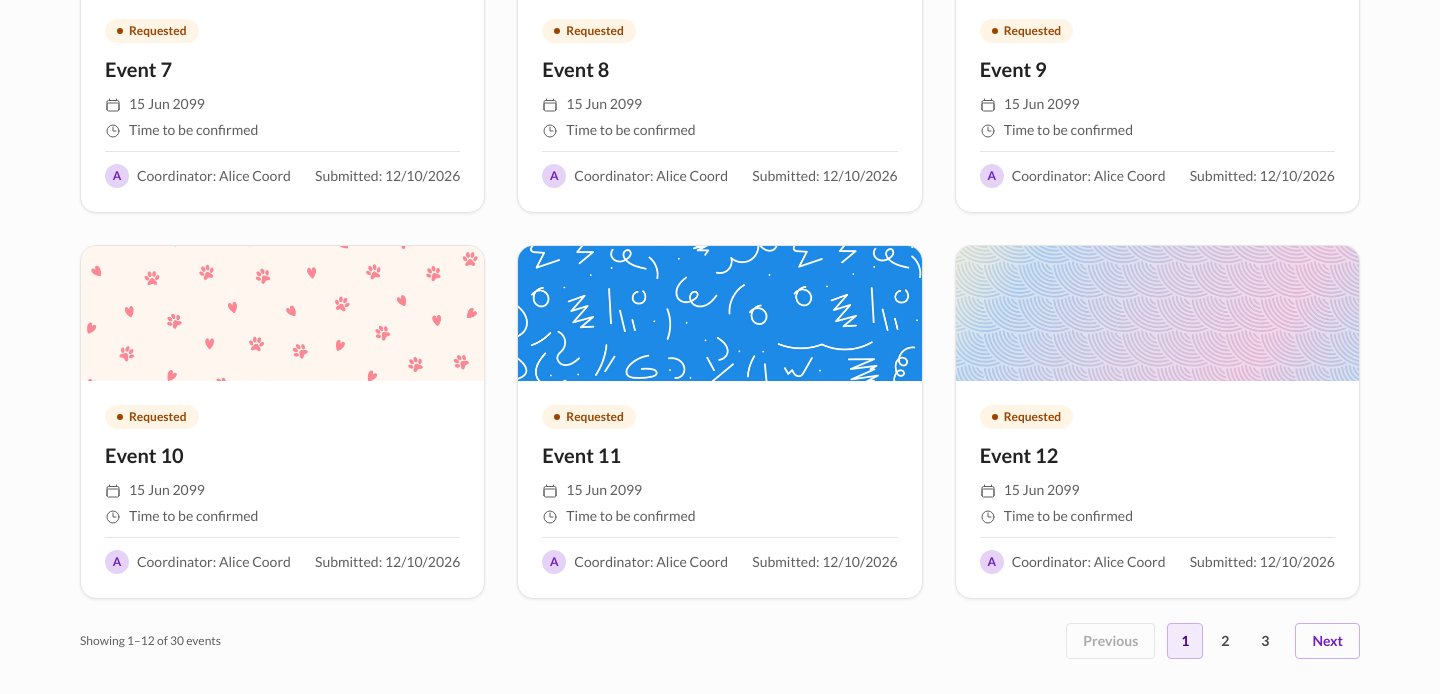
it: EventsListView — pagination › returns to page 1 when the tab changes, and pages the Drafts tab by its own count
(page scrolled)
Click the button "3". click: (1265, 641)
box: [1247, 623, 1283, 659]
(page scrolled)
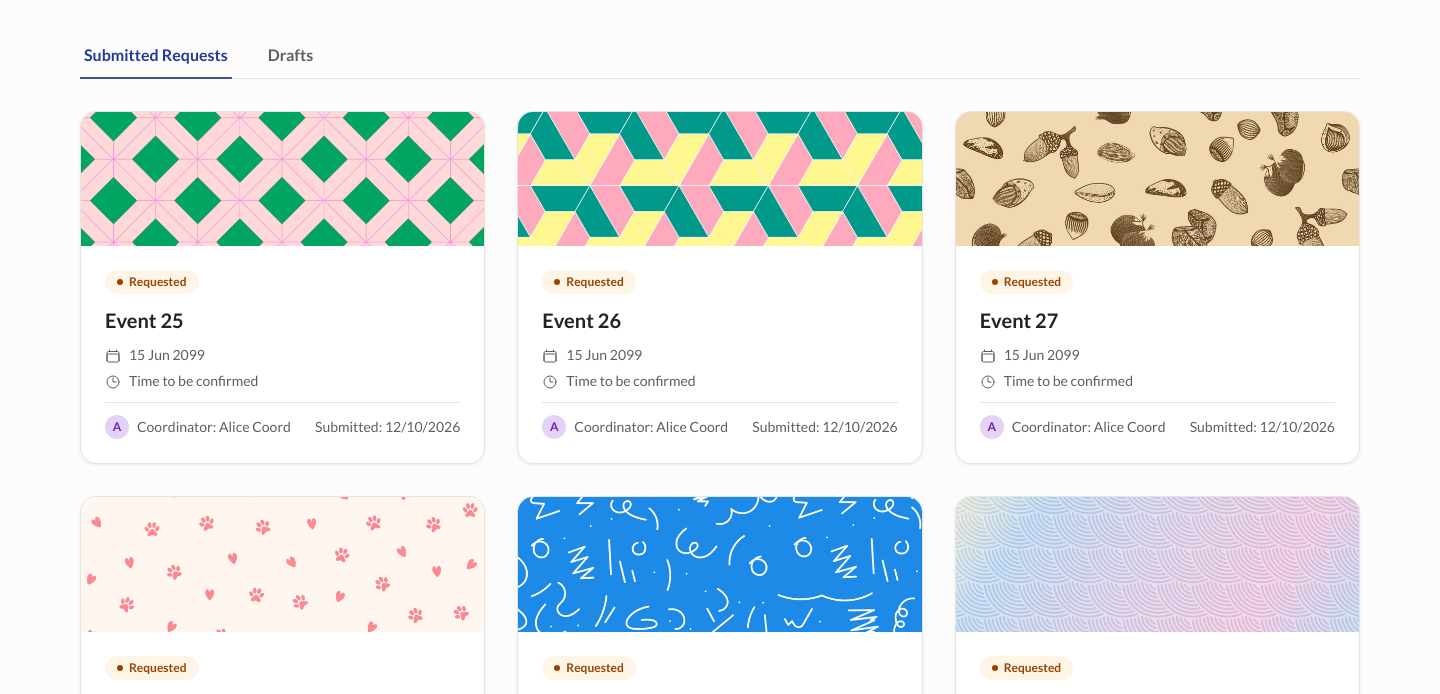
Click the tab "Drafts". click: (290, 56)
box: [264, 33, 317, 79]
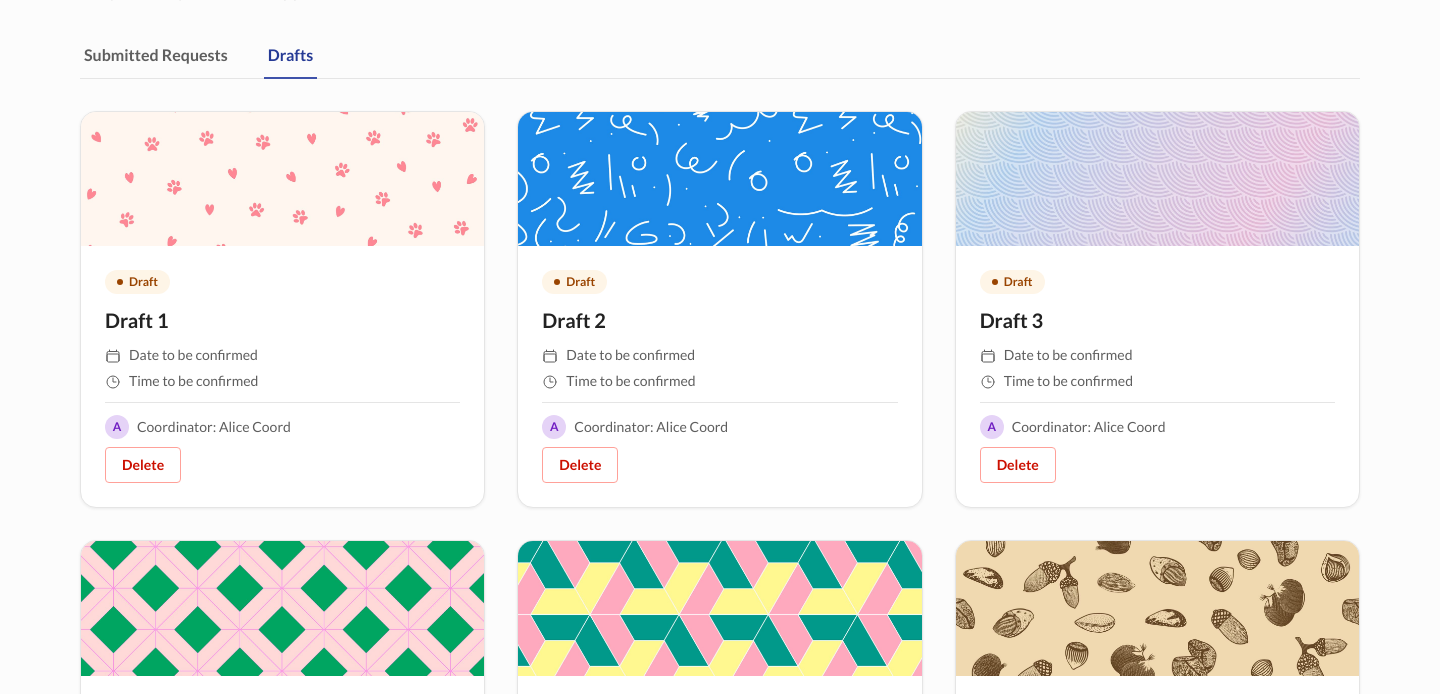
Click the tab "Submitted Requests". click: (156, 56)
box: [80, 33, 232, 79]
(page scrolled)
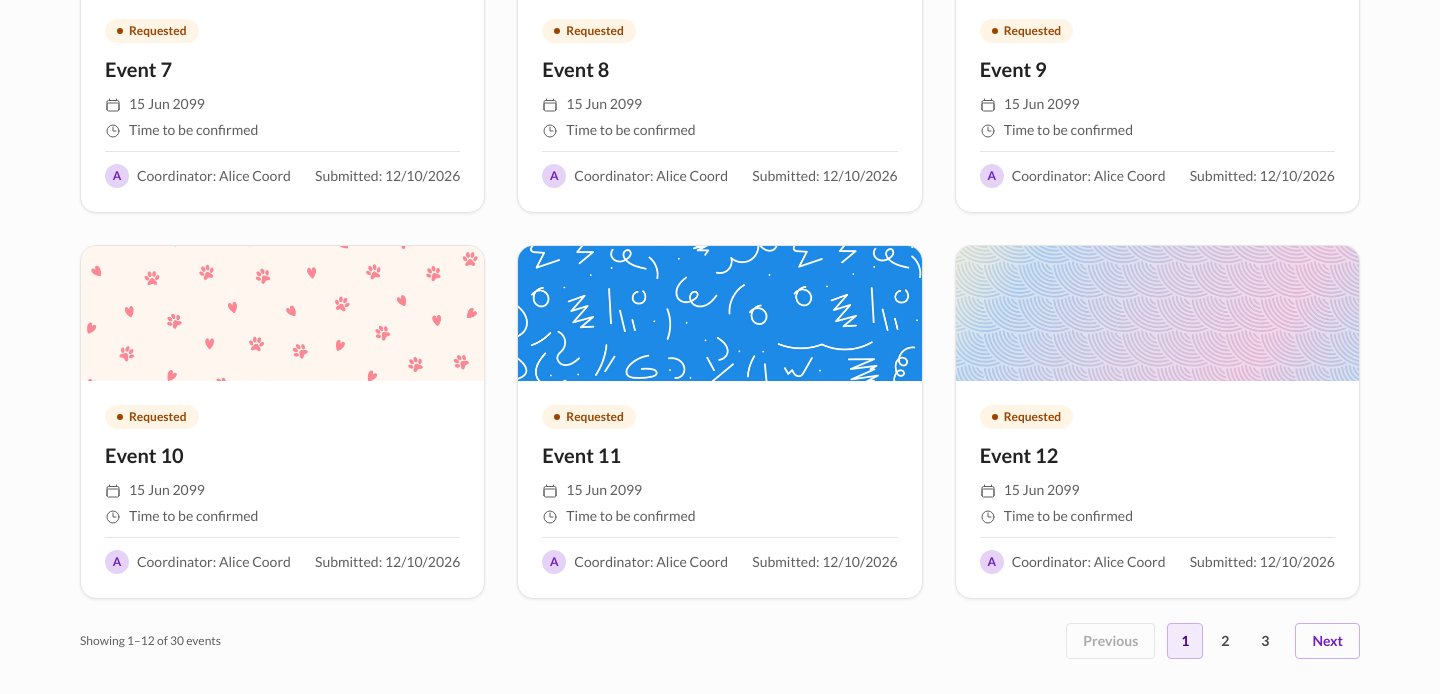
Expected: the text with test id "pagination-summary" reads "Showing 1–12 of 30 events", [80, 633, 221, 648]
